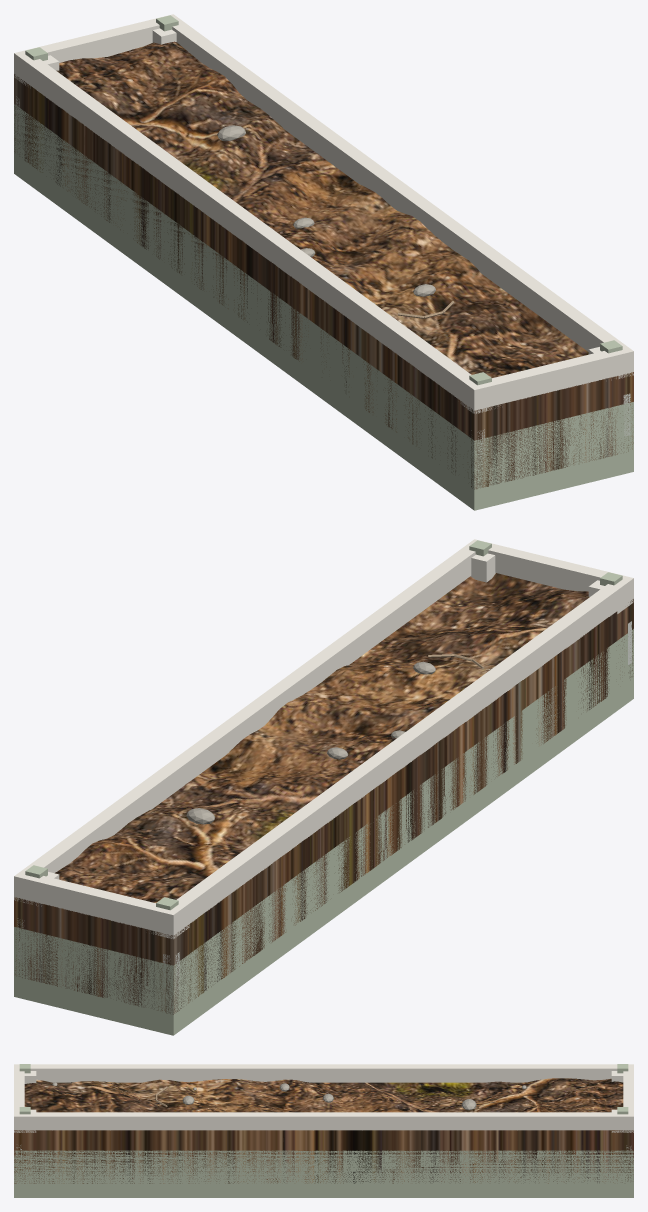
File: s03-untreated-edge-west.glb
3 renders of one model, top to bottom at view 1: azimuth 30°, elevation 25°; view 2: azimuth 150°, elevation 25°; view 3: azimuth 270°, elevation 25°, orthographic. The views are drawn at different scales.
Visible parts, largest first — view 1: S03_Physical_Untreated_Soil_Top_RealRelief, S03_Frame_Sage_Solid_Bottom, S03_Cream_Rim_W, S03_Cream_Rim_E, S03_Cream_Rim_N, S03_Cream_Rim_S; view 2: S03_Physical_Untreated_Soil_Top_RealRelief, S03_Frame_Sage_Solid_Bottom, S03_Cream_Rim_W, S03_Cream_Rim_E, S03_Cream_Rim_S, S03_Cream_Rim_N; view 3: S03_Physical_Untreated_Soil_Top_RealRelief, S03_Frame_Sage_Solid_Bottom, S03_Cream_Rim_E, S03_Cream_Rim_W, S03_Cream_Rim_N, S03_Cream_Rim_S, S03_Cream_Protective_Corner_1_0, S03_Cream_Protective_Corner_1_1.
Boxes of the visible parts, x1=… form: S03_Physical_Untreated_Soil_Top_RealRelief: x1=14, y1=41, x2=633, y2=489; S03_Frame_Sage_Solid_Bottom: x1=14, y1=104, x2=633, y2=510; S03_Cream_Rim_W: x1=14, y1=51, x2=487, y2=410; S03_Cream_Rim_E: x1=162, y1=14, x2=633, y2=372; S03_Cream_Rim_N: x1=466, y1=346, x2=633, y2=410; S03_Cream_Rim_S: x1=14, y1=14, x2=180, y2=78; S03_Physical_Untreated_Soil_Top_RealRelief: x1=14, y1=573, x2=633, y2=1014; S03_Frame_Sage_Solid_Bottom: x1=14, y1=629, x2=633, y2=1035; S03_Cream_Rim_W: x1=160, y1=576, x2=633, y2=935; S03_Cream_Rim_E: x1=14, y1=539, x2=487, y2=897; S03_Cream_Rim_S: x1=14, y1=872, x2=181, y2=935; S03_Cream_Rim_N: x1=467, y1=539, x2=633, y2=601; S03_Physical_Untreated_Soil_Top_RealRelief: x1=14, y1=1078, x2=633, y2=1183; S03_Frame_Sage_Solid_Bottom: x1=14, y1=1150, x2=633, y2=1197; S03_Cream_Rim_E: x1=14, y1=1112, x2=633, y2=1130; S03_Cream_Rim_W: x1=14, y1=1064, x2=633, y2=1082; S03_Cream_Rim_N: x1=14, y1=1064, x2=24, y2=1130; S03_Cream_Rim_S: x1=623, y1=1064, x2=633, y2=1130; S03_Cream_Protective_Corner_1_0: x1=611, y1=1109, x2=633, y2=1132; S03_Cream_Protective_Corner_1_1: x1=14, y1=1109, x2=36, y2=1132.
Bounding box in the file's own units: 0.2 × 0.149 × 1.
8 materials, 1 textured.
